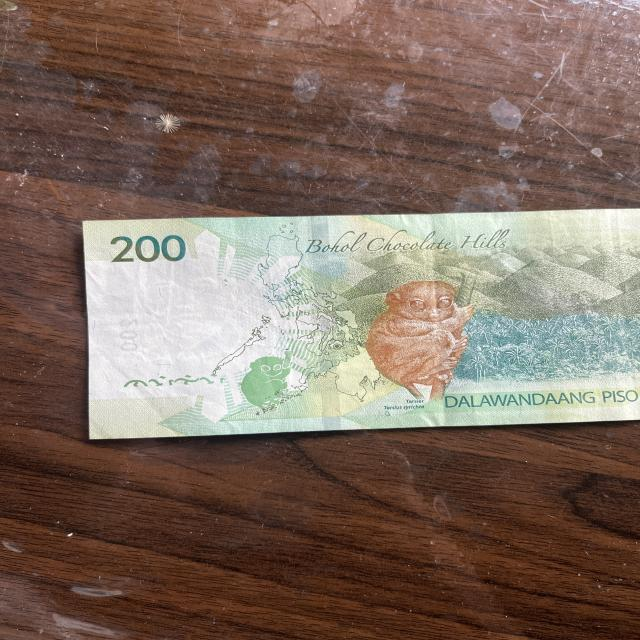200_tarsier: (343, 256, 477, 419)
200_tarsier_watermark: (235, 346, 305, 416)
value_watermark: (116, 313, 148, 360)
watermark: (106, 246, 269, 389)
